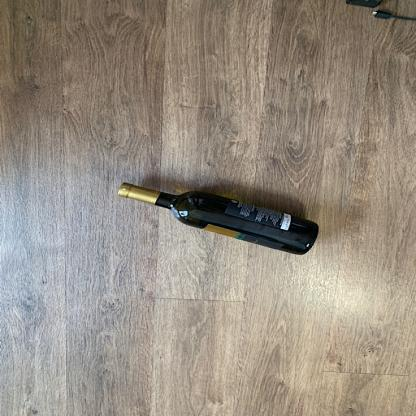trash: (115, 180, 324, 258)
